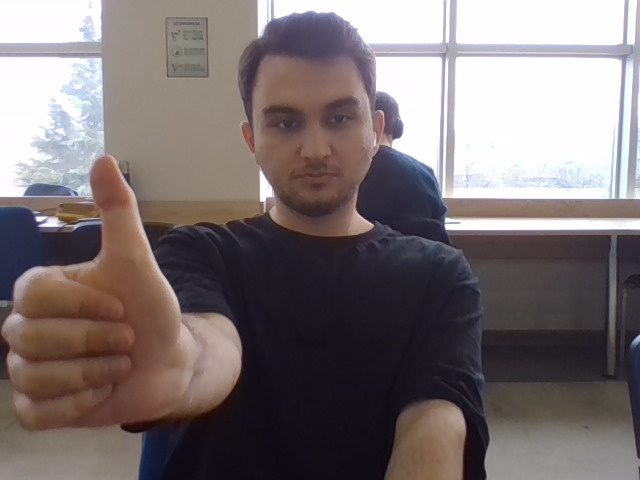thumbsup: (1, 153, 178, 433)
